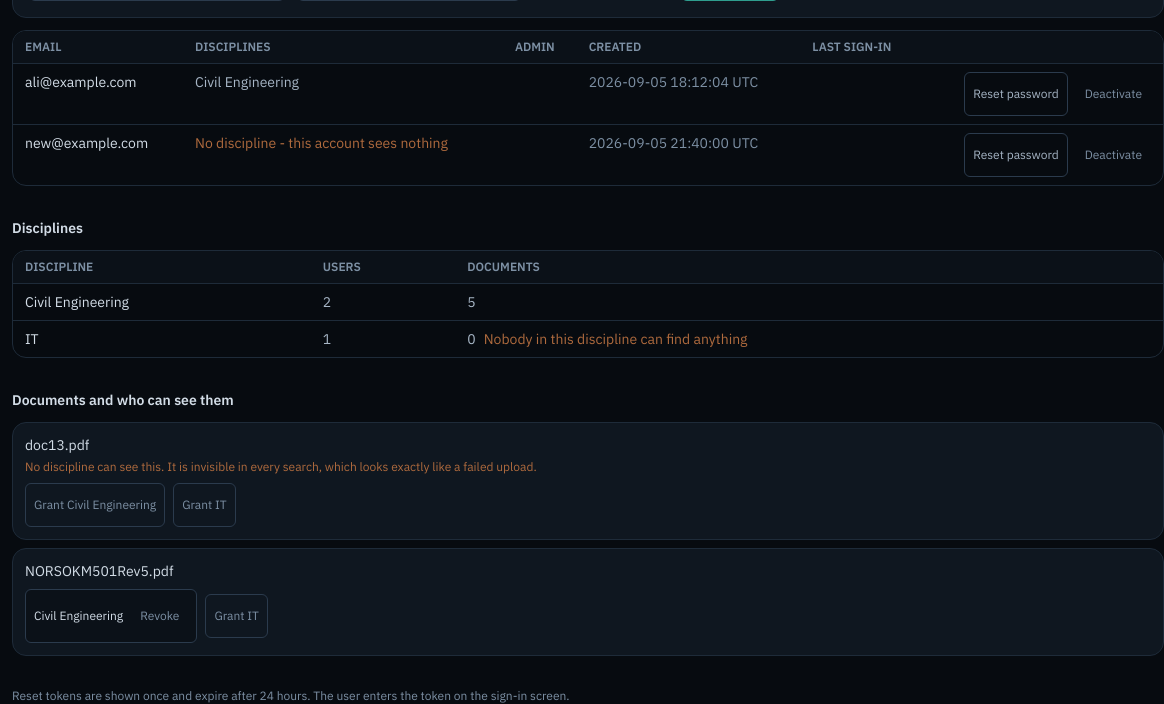
Test case: destructive actions confirm first › does not revoke on the first click
(page scrolled)
Click the button "Revoke" at {"x": 160, "y": 616}, box 131,594 -> 188,638
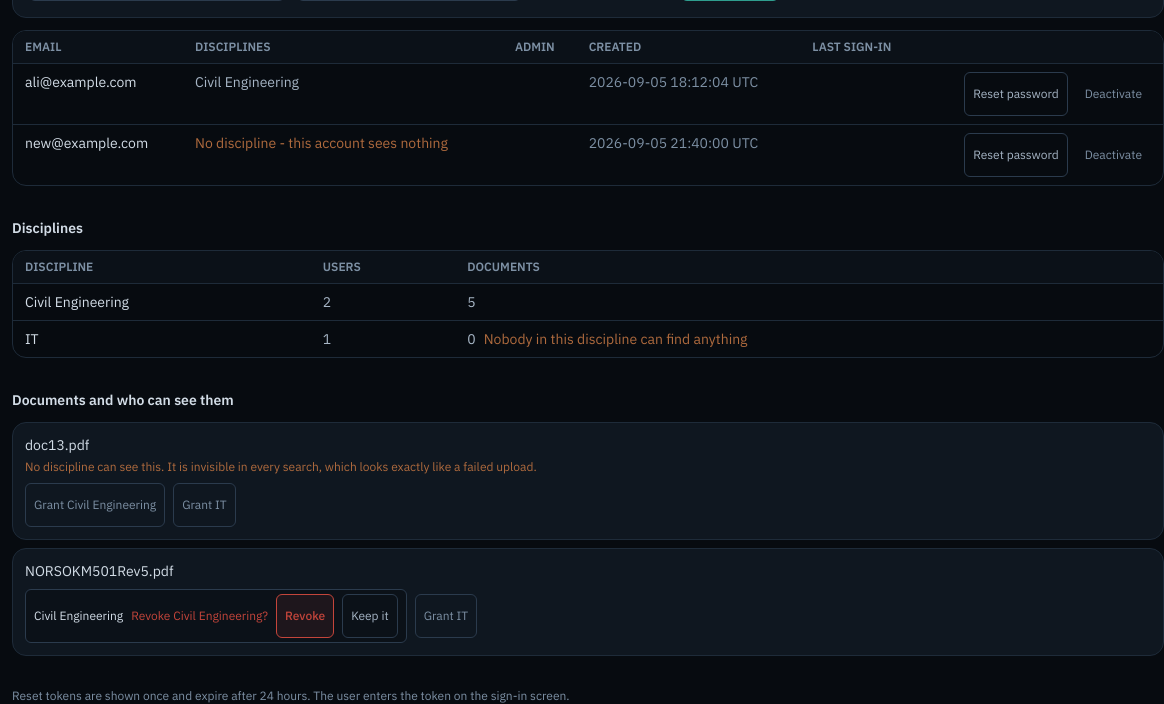
Now the text "Revoke Civil Engineering?" is shown, box 131,608 -> 268,624
